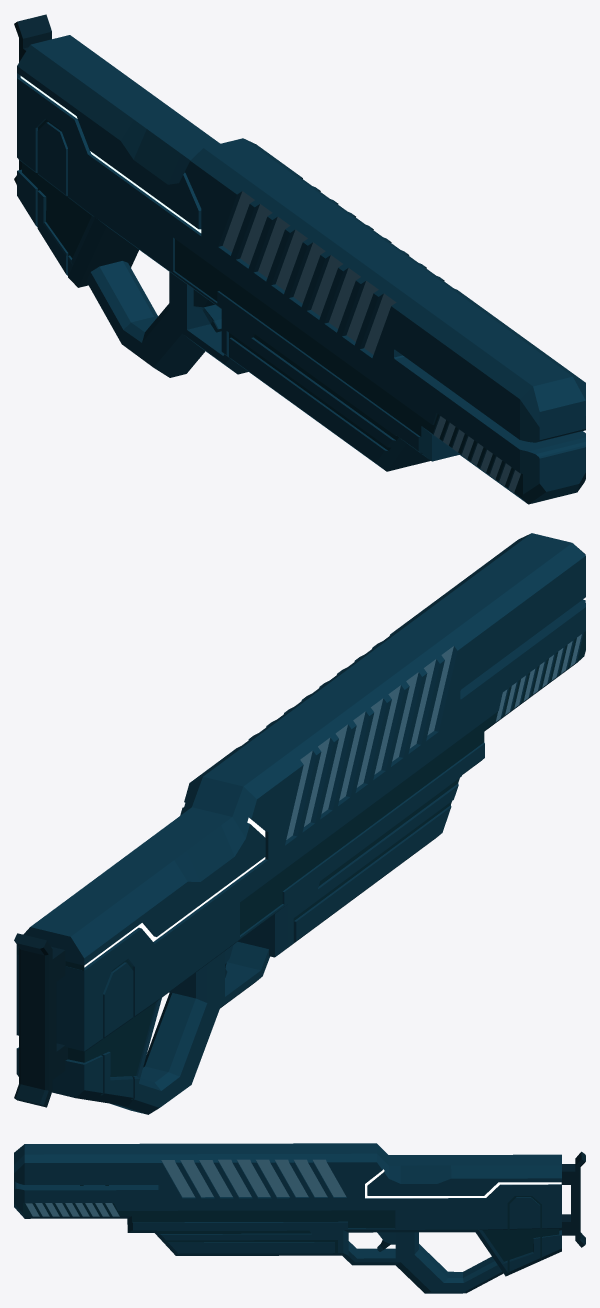
File: deserteagle.glb
3 renders of one model, top to bottom at view 1: azimuth 30°, elevation 25°; view 2: azimuth 150°, elevation 25°; view 3: azimuth 270°, elevation 25°, orthographic. The views are drawn at different scales.
Parts seen in each view (by area): view 1: Cube; view 2: Cube; view 3: Cube.
Part boxes in pixels (box(x1,y1,x2,y2)): Cube: box(14, 14, 585, 504); Cube: box(14, 533, 585, 1114); Cube: box(14, 1143, 585, 1293).
Size of the model in its own units: 0.1936 by 0.6935 by 2.51.
